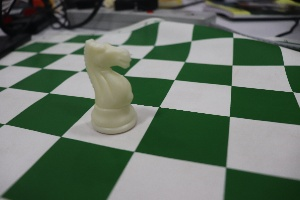white_horse: (71, 29, 147, 141)
